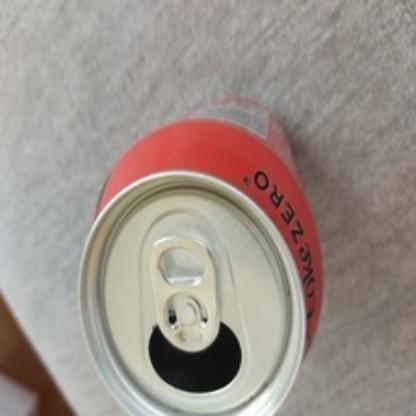Can: (80, 96, 324, 416)
